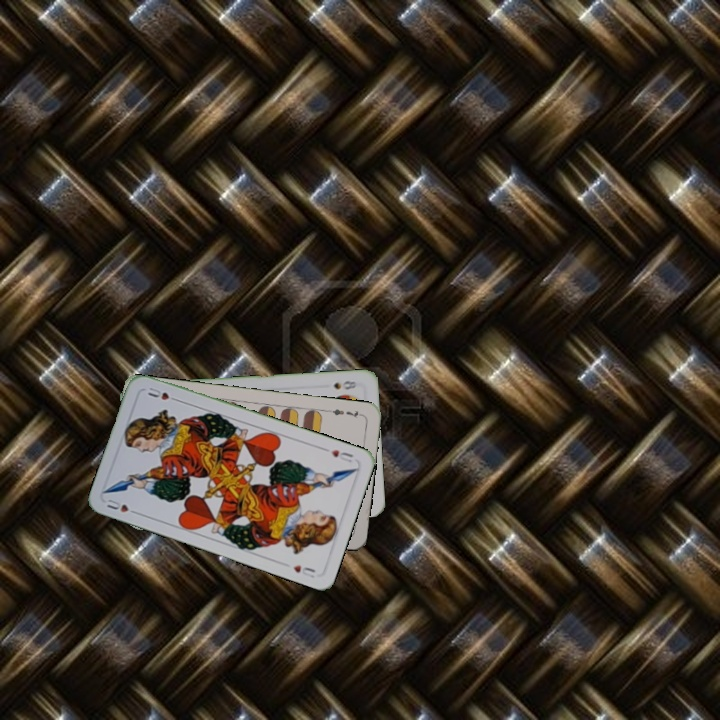E7: (325, 405, 365, 420)
HU: (102, 495, 141, 517), (320, 444, 356, 465)
S8: (329, 377, 359, 392)
